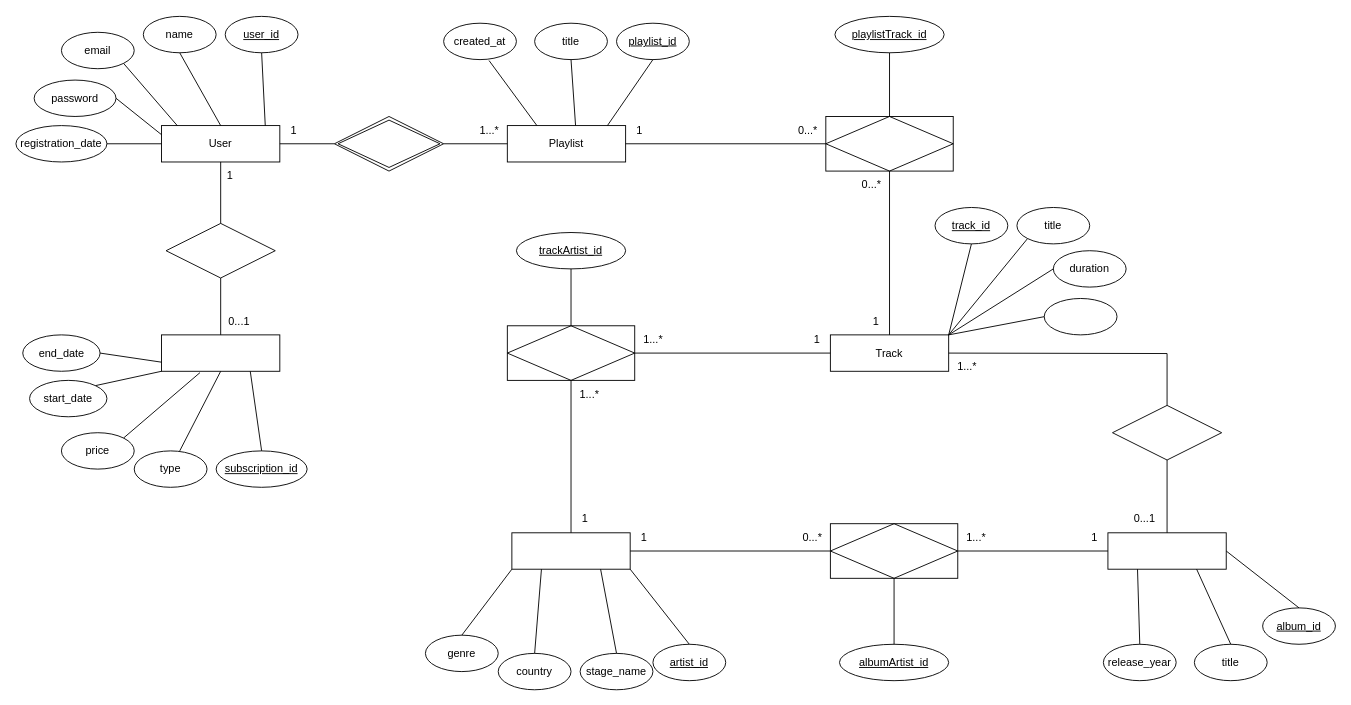
Image size: 1351x705. Some labels were removed from this diagram. The centre of each missing label's shape, as x and y in pixels:
"Album" belongs at [1166,550].
"AlbumArtist" belongs at [893,550].
"Artist" belongs at [570,550].
"contains" belongs at [1167,432].
"creates" belongs at [389,143].
"has" belongs at [220,250].
"PlaylistTrack" belongs at [889,143].
"release_date" belongs at [1080,316].
"Subscription" belongs at [220,352].
"TrackArtist" belongs at [570,352].
